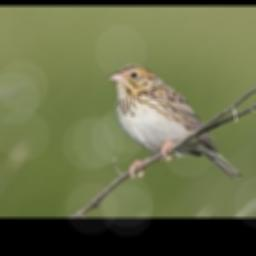Sparrow: (109, 62, 244, 178)
